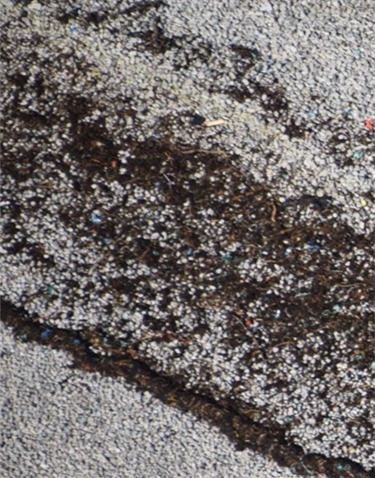scattered_barrel: (85, 132, 142, 189), (38, 316, 95, 372), (334, 103, 375, 161), (86, 201, 129, 251)
white_in_green: (205, 236, 251, 279), (292, 224, 338, 267), (194, 100, 240, 143)
